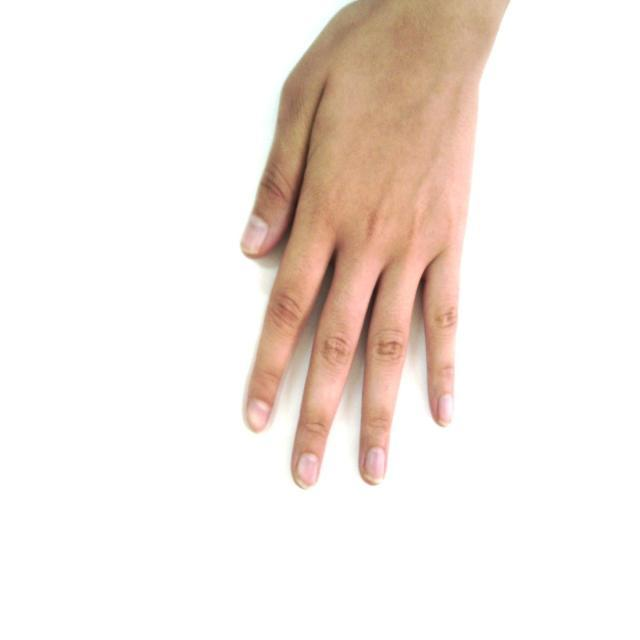Fingernail: (243, 218, 267, 253), (298, 454, 318, 486), (365, 448, 384, 480), (248, 401, 268, 430), (438, 394, 452, 424)
